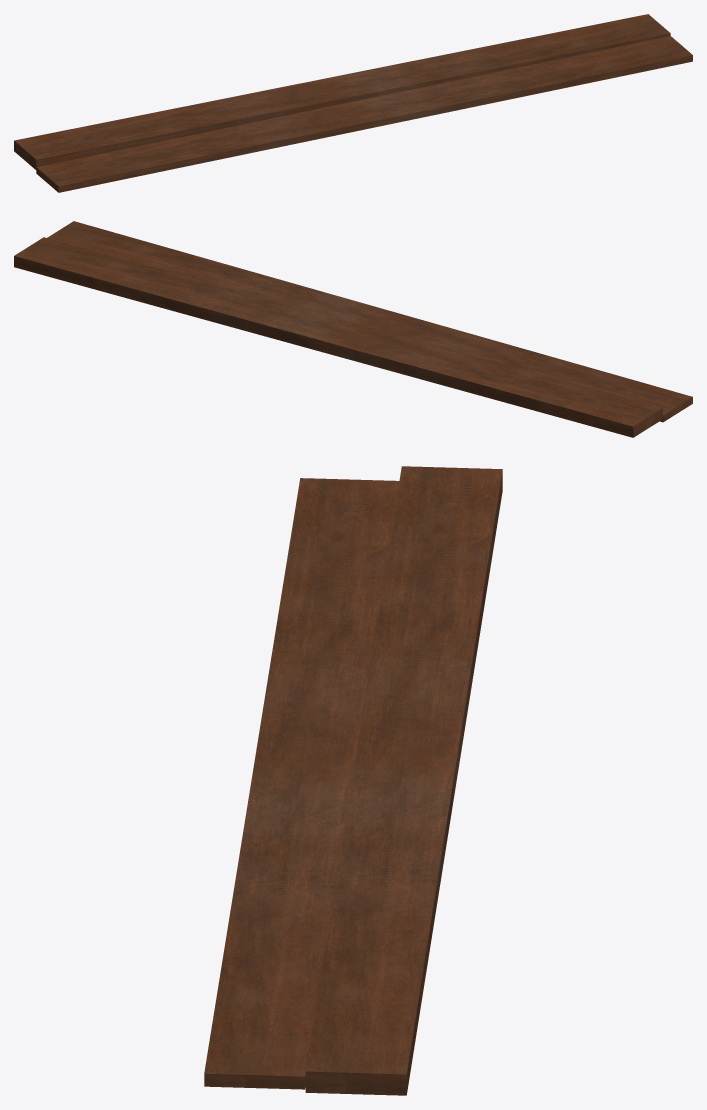
Rendered from Maderas_Suelo.fbx.
3 views of the same model, one above another, from view 1: azimuth 30°, elevation 25°; view 2: azimuth 150°, elevation 25°; view 3: azimuth 270°, elevation 25° (orthographic). The views are drawn at different scales.
Parts seen in each view (by area): view 1: Suelo, Suelo.001; view 2: Suelo.001, Suelo; view 3: Suelo.001, Suelo.
Boxes of the visible parts, x1=… form: Suelo: x1=36, y1=36, x2=692, y2=192; Suelo.001: x1=14, y1=14, x2=670, y2=169; Suelo.001: x1=14, y1=237, x2=662, y2=437; Suelo: x1=47, y1=221, x2=692, y2=422; Suelo.001: x1=305, y1=466, x2=502, y2=1095; Suelo: x1=204, y1=478, x2=399, y2=1089.
Bounding box in the file's own units: 3064 × 73.66 × 643.
1 material, 1 textured.
